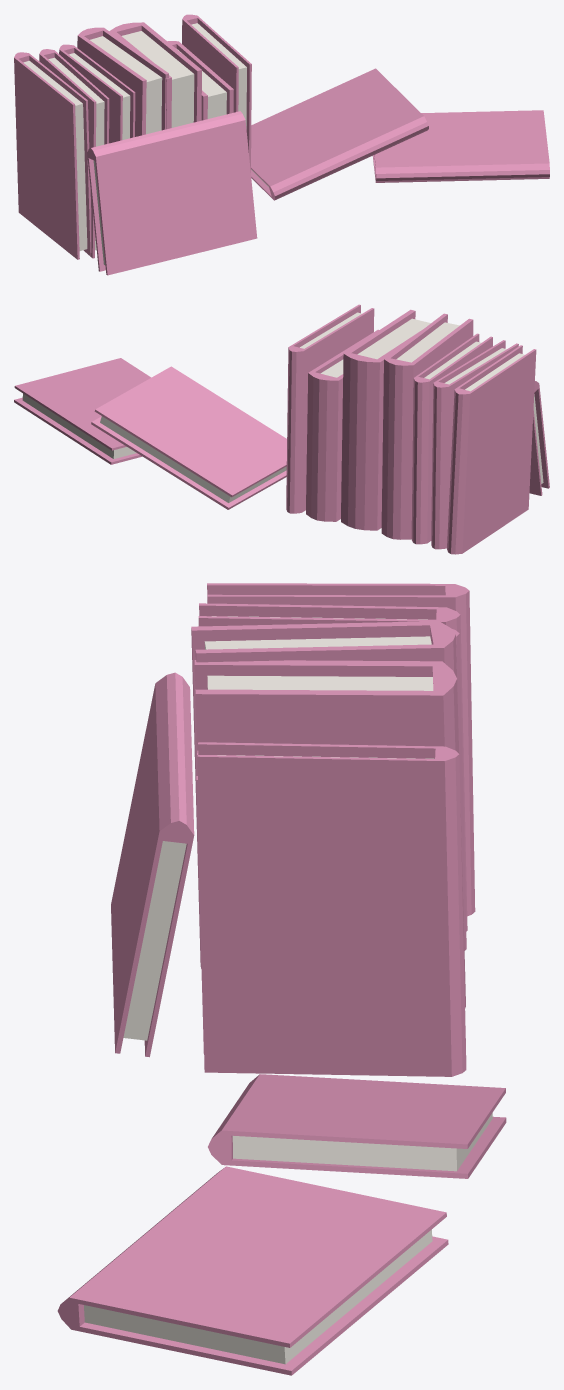
File: books.fbx
The picture shows the model from 3 angles, top to bottom: view 1: azimuth 30°, elevation 25°; view 2: azimuth 150°, elevation 25°; view 3: azimuth 270°, elevation 25°; orthographic projection. The views are drawn at different scales.
Parts seen in each view (by area): view 1: Book1.177, Book1.172, Book1.176, Book1.173, Book1.168, Book1.169, Book1.171, Book1.174, Book1.175, Book1.170; view 2: Book1.172, Book1.176, Book1.169, Book1.168, Book1.173, Book1.171, Book1.170, Book1.174, Book1.175, Book1.177; view 3: Book1.171, Book1.173, Book1.172, Book1.169, Book1.177, Book1.168, Book1.176, Book1.175, Book1.174.
Boxes of the visible parts, x1,y1,x2,y2 form: Book1.177: [87, 111, 257, 275]; Book1.172: [251, 68, 428, 200]; Book1.176: [14, 52, 91, 259]; Book1.173: [372, 110, 549, 182]; Book1.168: [77, 27, 168, 136]; Book1.169: [109, 22, 201, 129]; Book1.171: [182, 14, 251, 172]; Book1.174: [59, 44, 135, 143]; Book1.175: [39, 49, 109, 258]; Book1.170: [167, 41, 233, 120]; Book1.172: [91, 366, 286, 509]; Book1.176: [447, 345, 536, 554]; Book1.169: [341, 309, 430, 530]; Book1.168: [381, 313, 473, 539]; Book1.173: [14, 358, 150, 464]; Book1.171: [286, 304, 374, 513]; Book1.170: [306, 329, 378, 521]; Book1.174: [411, 333, 492, 544]; Book1.175: [431, 340, 518, 549]; Book1.177: [529, 381, 549, 495]; Book1.171: [197, 742, 466, 1076]; Book1.173: [57, 1166, 448, 1375]; Book1.172: [208, 1074, 506, 1178]; Book1.169: [194, 660, 465, 1008]; Book1.177: [111, 672, 194, 1057]; Book1.168: [191, 621, 456, 968]; Book1.176: [207, 583, 475, 916]; Book1.175: [198, 603, 467, 931]; Book1.174: [452, 629, 466, 950].
Size of the model in its own units: 165 by 54.73 by 65.19.
